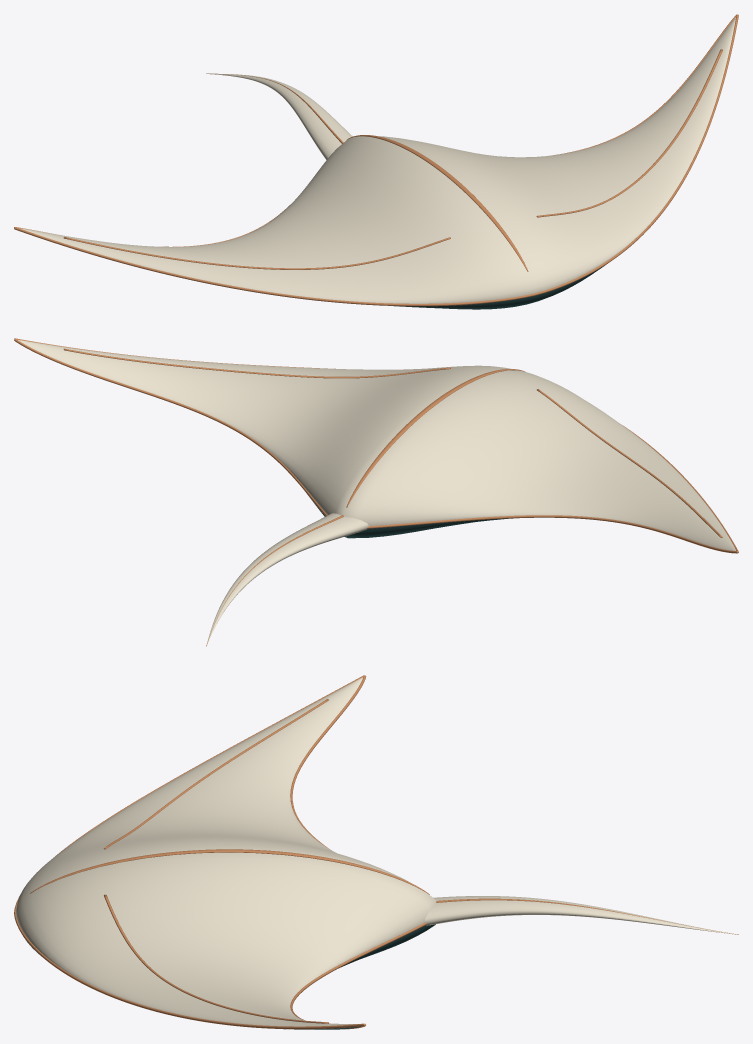
The picture shows the model from 3 angles, top to bottom: view 1: azimuth 30°, elevation 25°; view 2: azimuth 150°, elevation 25°; view 3: azimuth 270°, elevation 25°; orthographic projection. The views are drawn at different scales.
Parts seen in each view (by area): view 1: A | continuous porcelain wing, B | leading copper seam, E | tapered ceramic tail, C | swept copper inlay -1, G | copper dorsal midrib, C | swept copper inlay 1, B | trailing copper seam; view 2: A | continuous porcelain wing, E | tapered ceramic tail, B | trailing copper seam, C | swept copper inlay 1, G | copper dorsal midrib, C | swept copper inlay -1, B | leading copper seam; view 3: A | continuous porcelain wing, E | tapered ceramic tail, B | leading copper seam, G | copper dorsal midrib, B | trailing copper seam, C | swept copper inlay 1, C | swept copper inlay -1.
Boxes of the visible parts, <box> form: A | continuous porcelain wing: <box>20,17,735,309</box>; B | leading copper seam: <box>14,14,738,306</box>; E | tapered ceramic tail: <box>206,73,352,159</box>; C | swept copper inlay -1: <box>63,237,450,269</box>; G | copper dorsal midrib: <box>346,135,528,271</box>; C | swept copper inlay 1: <box>536,49,722,217</box>; B | trailing copper seam: <box>14,14,736,246</box>; A | continuous porcelain wing: <box>18,340,735,550</box>; E | tapered ceramic tail: <box>207,513,368,644</box>; B | trailing copper seam: <box>14,338,737,553</box>; C | swept copper inlay 1: <box>63,348,450,378</box>; G | copper dorsal midrib: <box>346,369,525,507</box>; C | swept copper inlay -1: <box>537,389,722,537</box>; B | leading copper seam: <box>14,338,738,552</box>; A | continuous porcelain wing: <box>16,677,436,1029</box>; E | tapered ceramic tail: <box>424,896,738,934</box>; B | leading copper seam: <box>14,675,364,1029</box>; G | copper dorsal midrib: <box>30,849,429,894</box>; B | trailing copper seam: <box>290,675,427,1029</box>; C | swept copper inlay 1: <box>104,894,328,1023</box>; C | swept copper inlay -1: <box>104,699,328,849</box>.
Bounding box in the file's own units: 10 × 1.43 × 7.87.
